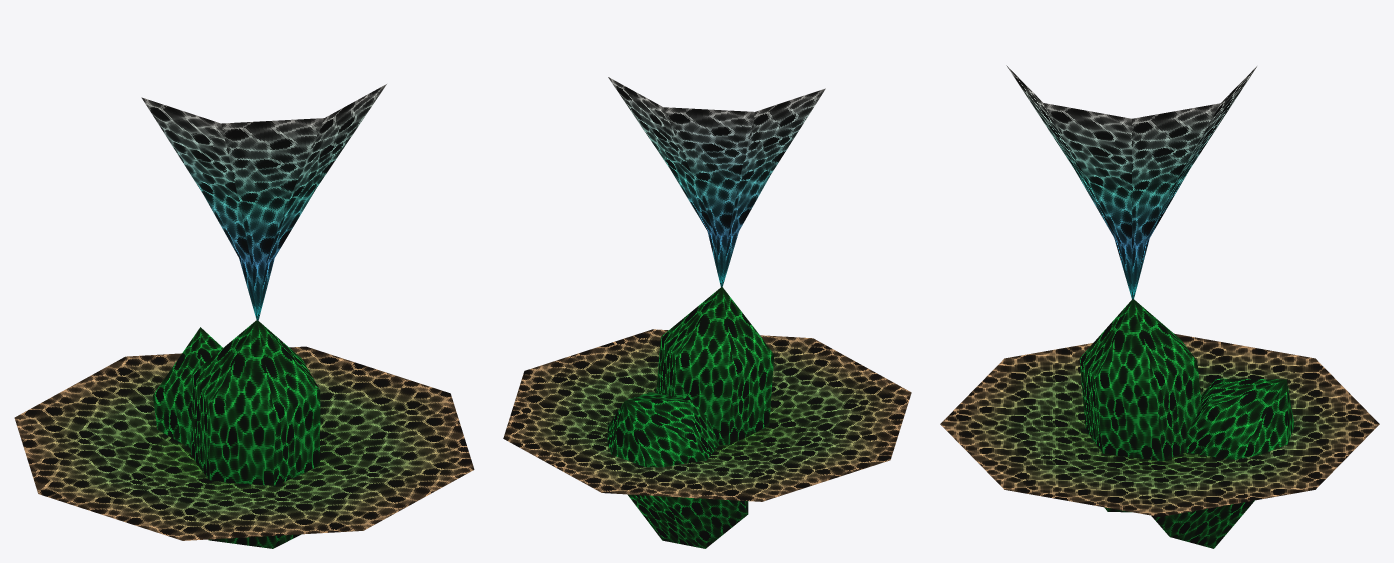
Rendered from map.glb.
The picture shows the model from 3 angles, left to right: view 1: azimuth 30°, elevation 25°; view 2: azimuth 150°, elevation 25°; view 3: azimuth 270°, elevation 25°; orthographic projection. The views are drawn at different scales.
Visible parts, largest first — view 1: waterGround, water01, water; view 2: waterGround, water01, water; view 3: waterGround, water01, water.
Part boxes in pixels (x1,y1,x2,y2): waterGround: (14,346,474,540); water01: (153,320,320,548); water: (141,84,386,320); waterGround: (503,329,911,501); water01: (607,287,774,548); water: (608,77,825,287); waterGround: (940,333,1379,516); water01: (1079,299,1294,548); water: (1006,65,1256,300).
Size of what is drawn, in the model's own units: 23 by 27.29 by 23.
Materials: 2 (2 with a texture image).
